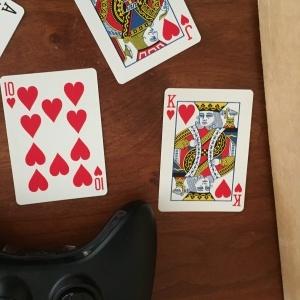card: (158, 87, 254, 213)
